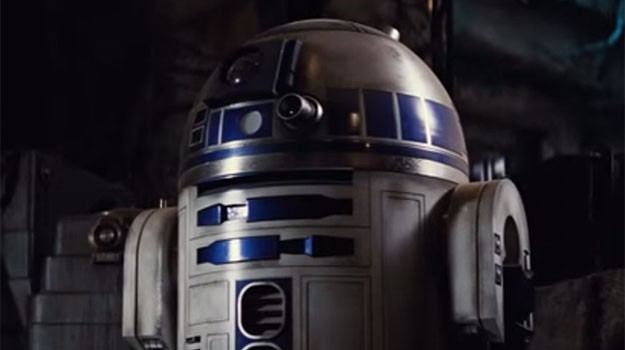r2d2: (132, 15, 538, 337)
